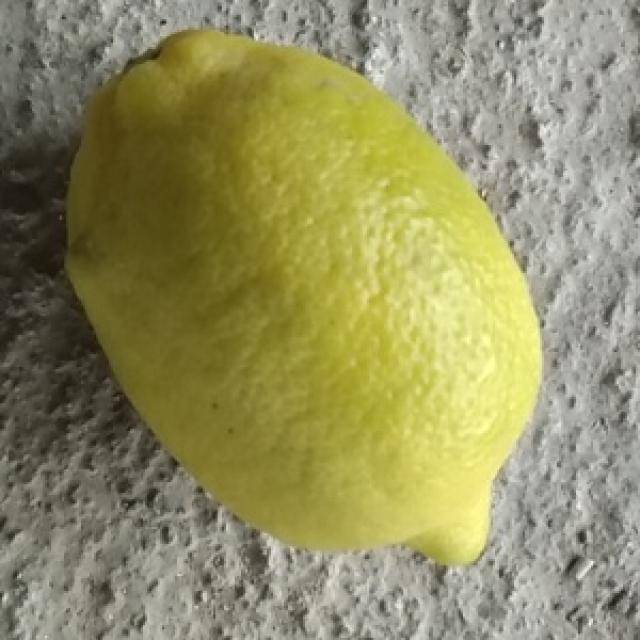Ripe: (60, 22, 553, 574)
